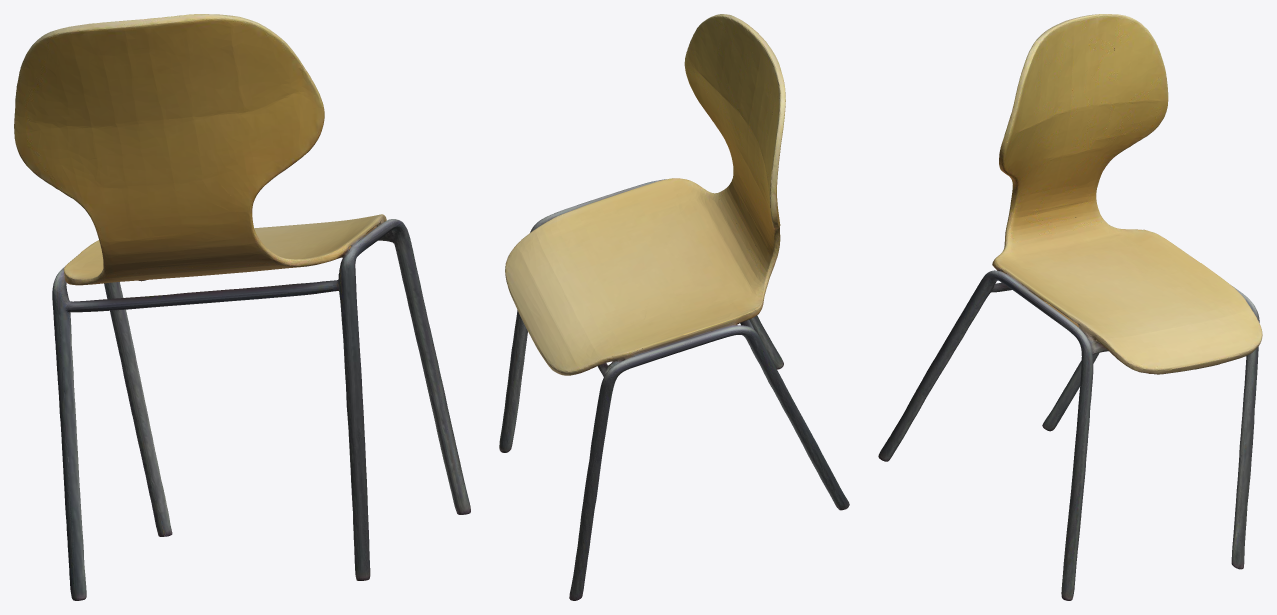
Rendered from light-colored_wooden_chair_at_back_row_right_table_(left)_000.glb.
The picture shows the model from 3 angles, left to right: view 1: azimuth 30°, elevation 25°; view 2: azimuth 150°, elevation 25°; view 3: azimuth 270°, elevation 25°; orthographic projection. The views are drawn at different scales.
Visible parts, largest first — view 1: light-colored_wooden_chair_at_back_row_right_table_(left)_00; view 2: light-colored_wooden_chair_at_back_row_right_table_(left)_00; view 3: light-colored_wooden_chair_at_back_row_right_table_(left)_00.
Part boxes in pixels (x1=…): light-colored_wooden_chair_at_back_row_right_table_(left)_00: x1=14, y1=14, x2=470, y2=600; light-colored_wooden_chair_at_back_row_right_table_(left)_00: x1=499, y1=14, x2=849, y2=600; light-colored_wooden_chair_at_back_row_right_table_(left)_00: x1=878, y1=14, x2=1262, y2=600.
Size of the model in its own units: 0.3678 by 0.5414 by 0.374.
Materials: 1 (1 with a texture image).
